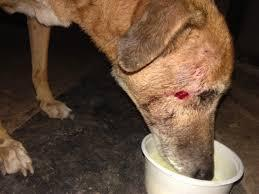cut: (167, 76, 201, 115)
